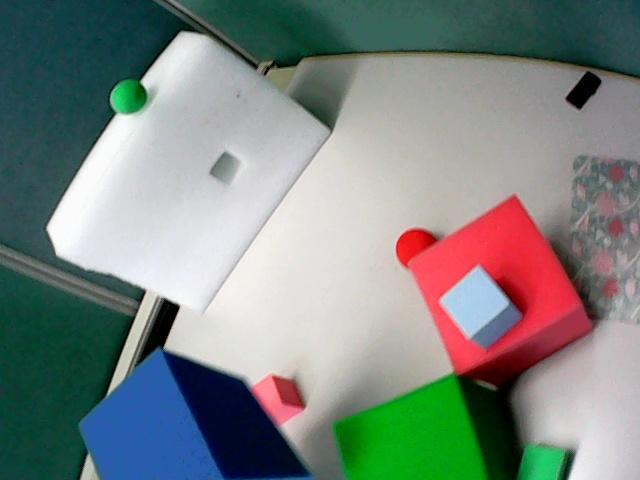blue_block: (80, 350, 310, 479), (440, 265, 521, 348)
red_block: (409, 196, 591, 385), (251, 374, 303, 424)
